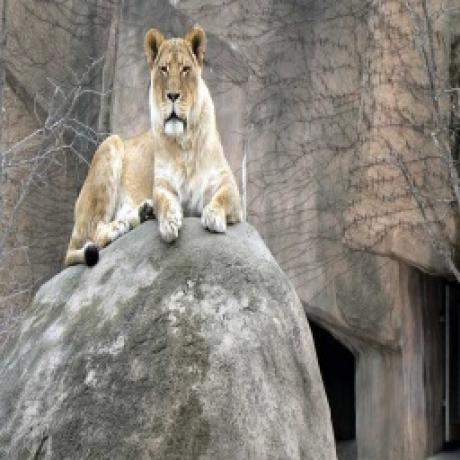Lion: (62, 26, 243, 266)
